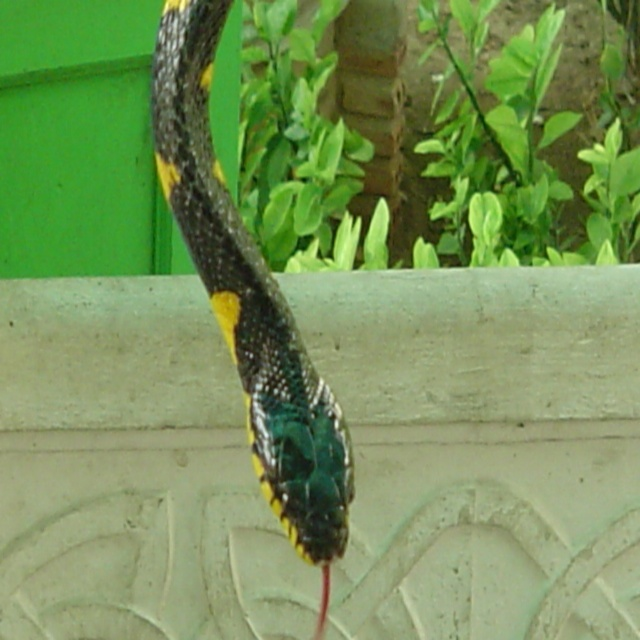Snake: (154, 1, 357, 639)
